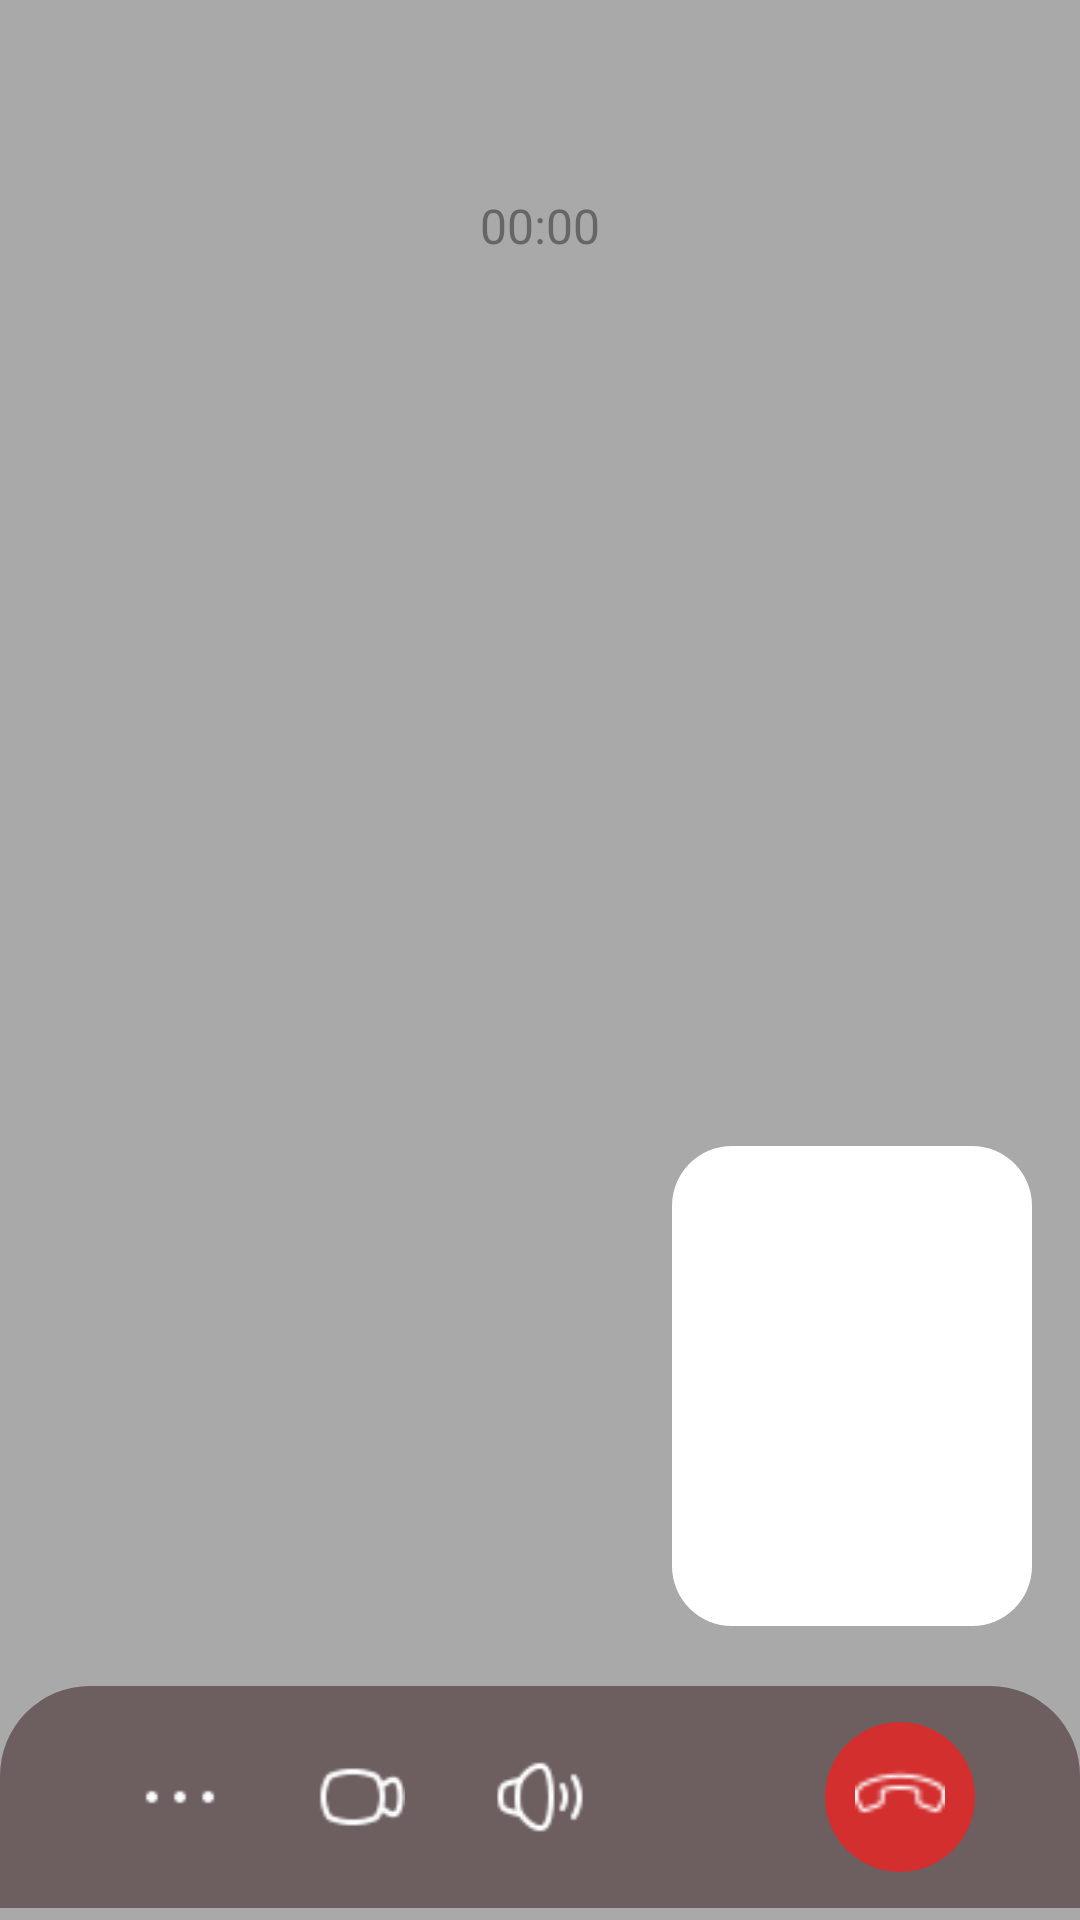

Screen size 1080w x 1920h. Icon name, then its box in pixels as (x1, y1, x2, y2):
end call: (825, 1722, 975, 1872)
speaker on: (497, 1762, 583, 1832)
three dots: (145, 1790, 215, 1804)
video call: (320, 1768, 405, 1826)
